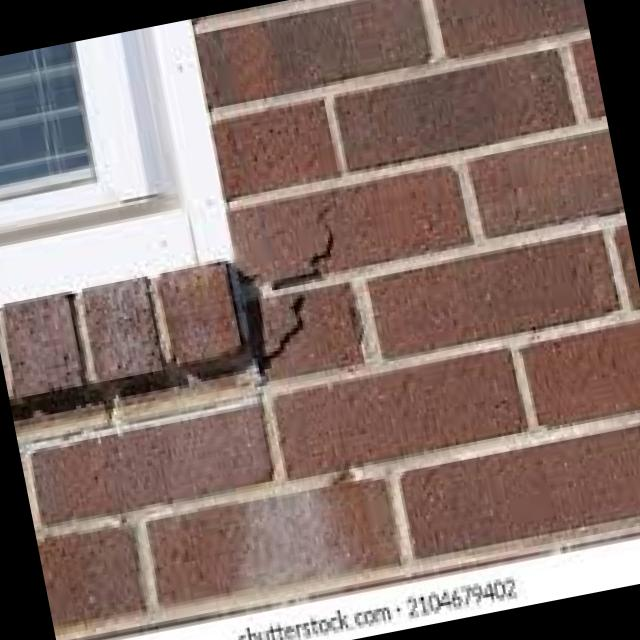crack: (240, 288, 316, 374), (282, 199, 340, 276)
